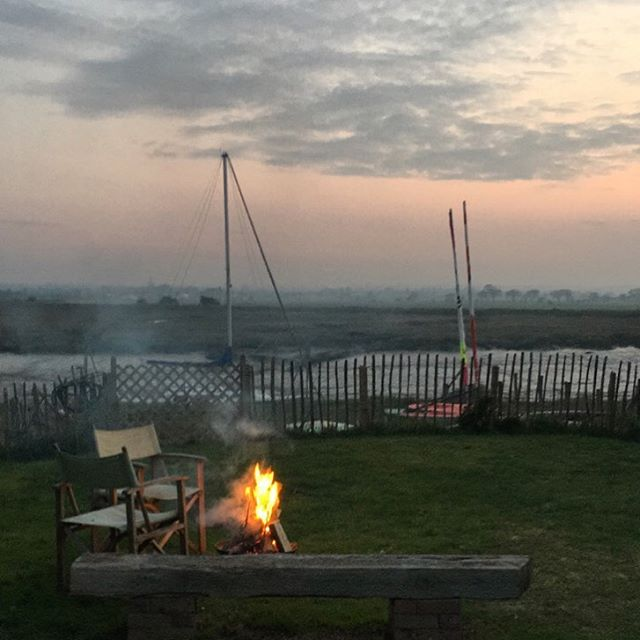bench: (78, 546, 541, 639)
chair: (101, 408, 218, 538), (51, 454, 165, 558)
fireplace: (207, 472, 302, 559)
grass: (284, 441, 635, 577)
sky: (1, 8, 630, 296)
